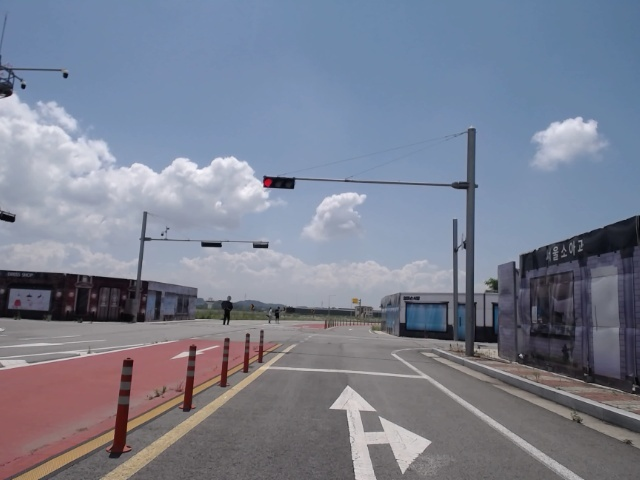red_3: (263, 175, 295, 189)
